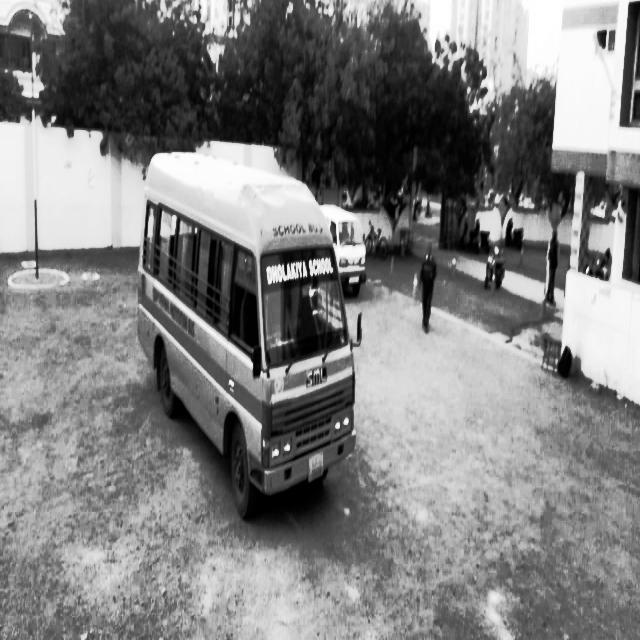Bus: (133, 124, 366, 534)
